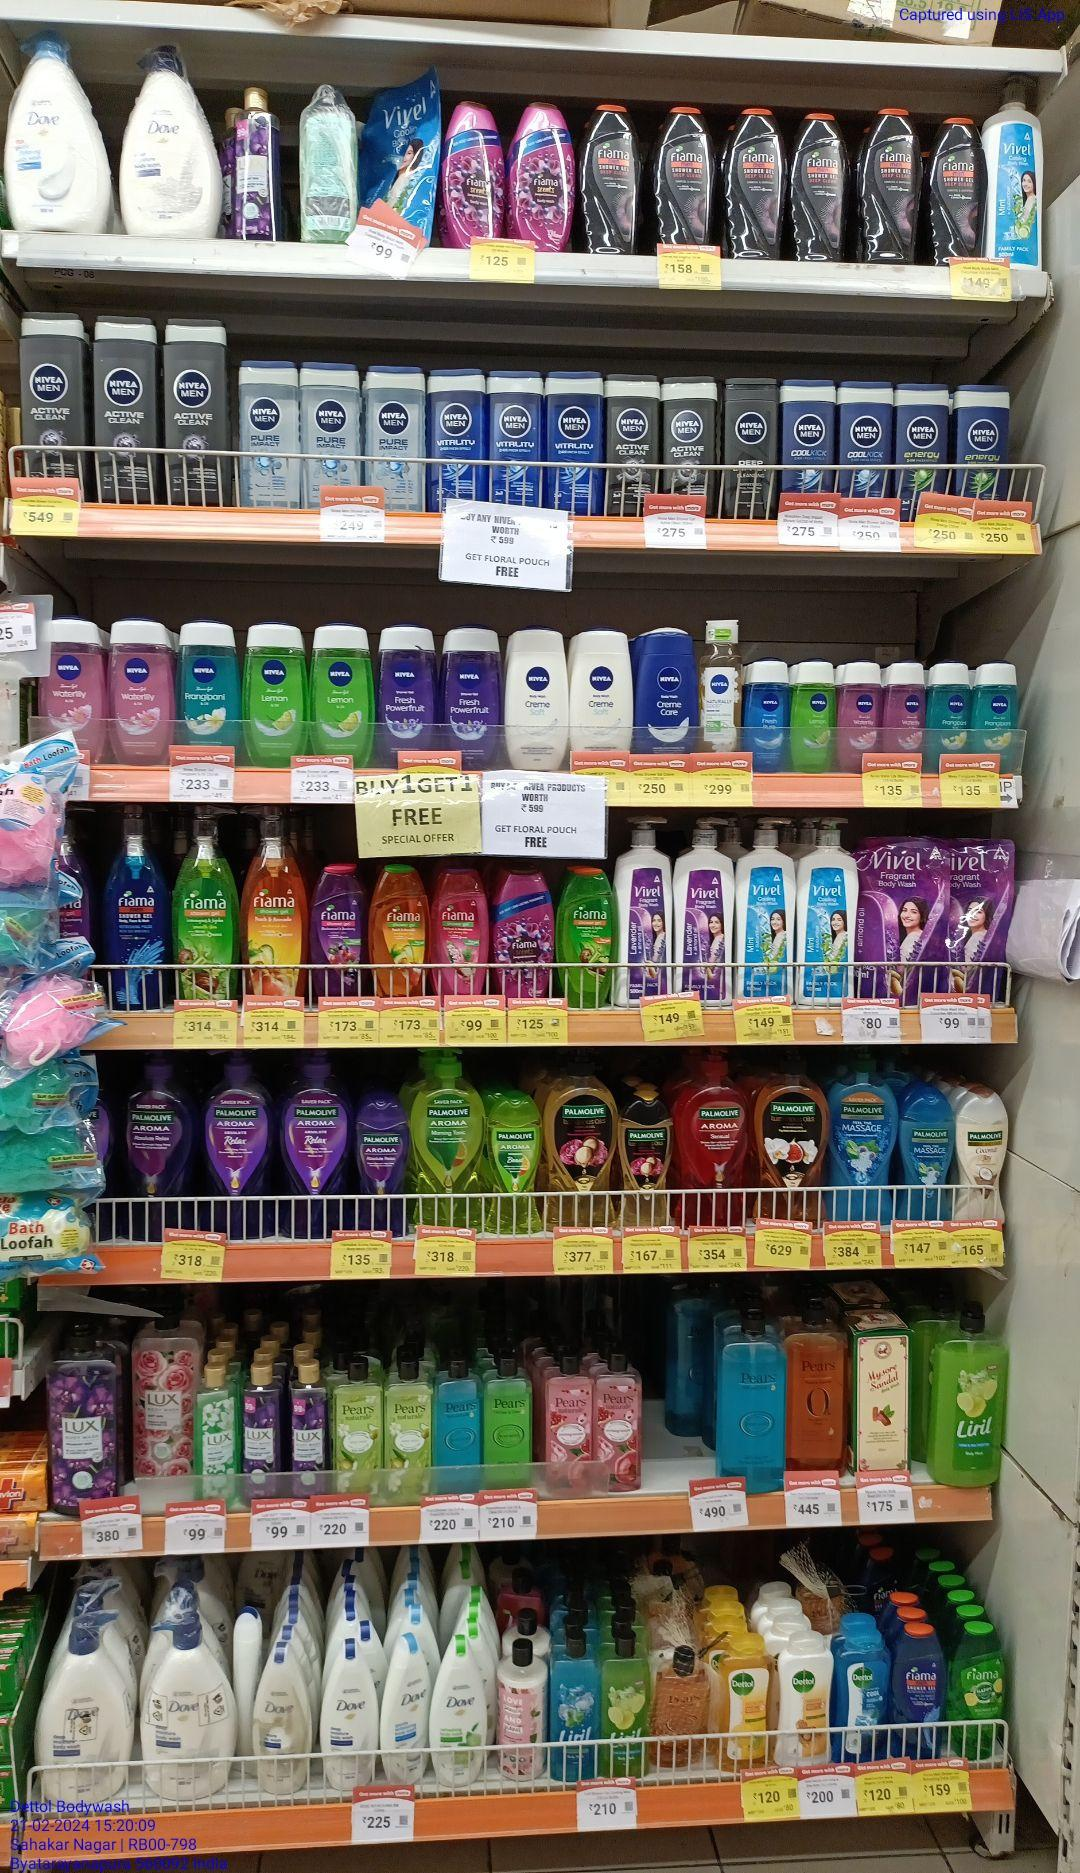Dettol_Bodywash_Cool: (834, 1626, 890, 1762)
Dettol_Bodywash_Refresh: (717, 1632, 774, 1773)
Dettol_Nourish_Body_Wash_250ML: (774, 1629, 834, 1766)
Dove_Deep_Moisture_Body_Wash_250ML: (319, 1638, 381, 1787)
Dove_Gentle_Exfoliating_Body_Wash_250ML: (379, 1631, 429, 1786)
Dove_Refreshing_Body_Wash_250ML: (428, 1631, 489, 1788)
Fiama_Shower_Gel_Lemongrass_and_Jojoba_250ML: (554, 866, 621, 1009)
Fiama_Shower_Gel_Patchouli_and_Macadamia_250ML: (431, 863, 491, 992)
Fiama_Shower_Gel_Peach_and_Avocado_250ML: (366, 863, 431, 996)
Liril_Cooling_Mint_Body_Wash_250ML: (548, 1629, 600, 1782)
Liril_Lime_and_Tea_Tree_Oil_Body_Wash_250ML: (600, 1629, 652, 1778)
Lux_Black_Orchid_Scent_and_Juniper_Oil_Body_Wash_245ML: (231, 86, 280, 242), (285, 1357, 330, 1472), (240, 1360, 282, 1473)
Lux_Body_Wash_Skin_Detox_Freesia_Scent_and_Alove_Vera_245ML: (193, 1358, 240, 1473)
Nivea_Creme_Care_Body_Wash_250ML: (634, 625, 698, 754)
Nivea_Creme_Soft_Body_Wash_250ML: (504, 625, 568, 771), (570, 626, 635, 751)
Nivea_Shower_Gel_Frangipani_and_Oil_250ML: (174, 616, 243, 745), (971, 661, 1021, 753), (927, 660, 971, 751)
Nivea_Shower_Gel_Fresh_Powerfruit_250ML: (438, 625, 504, 751), (375, 623, 437, 750)
Nivea_Shower_Gel_Lemon_and_Oil_250ML: (243, 620, 309, 765), (307, 620, 375, 755), (789, 657, 836, 773)
Nivea_Shower_Gel_Waterlily_and_Oil_250ML: (107, 614, 174, 765), (39, 612, 107, 728), (833, 660, 882, 753), (882, 657, 927, 751)
Palmolive_Aroma_Moments_Feel_The_Massage_Shower_Gel_250ML: (896, 1084, 955, 1220)
Palmolive_Aroma_Morning_Tonic_Shower_Gel_250ML: (486, 1090, 543, 1234)
Palmolive_Aroma_Relax_250ML: (352, 1090, 409, 1230)
Palmolive_Coconut_Joy_Exfoliating_Body_Wash_250ML: (955, 1083, 1009, 1221)
Palmolive_Luminous_Oils_Invigorating_Macadamia_Oil_With_Peony_250ML: (616, 1091, 675, 1226)
Pears_Naturale_Aloe_Vera_Body_Wash_250ML: (330, 1356, 384, 1470), (383, 1358, 432, 1468)
Pears_Pure_Glycerin_and_Lemon_Flower_Extracts_Body_Wash_250ML: (483, 1356, 532, 1464)
Pears_Pure_Glycerin_and_Mint_Extracts_Body_Wash_250ML: (432, 1357, 483, 1466)
